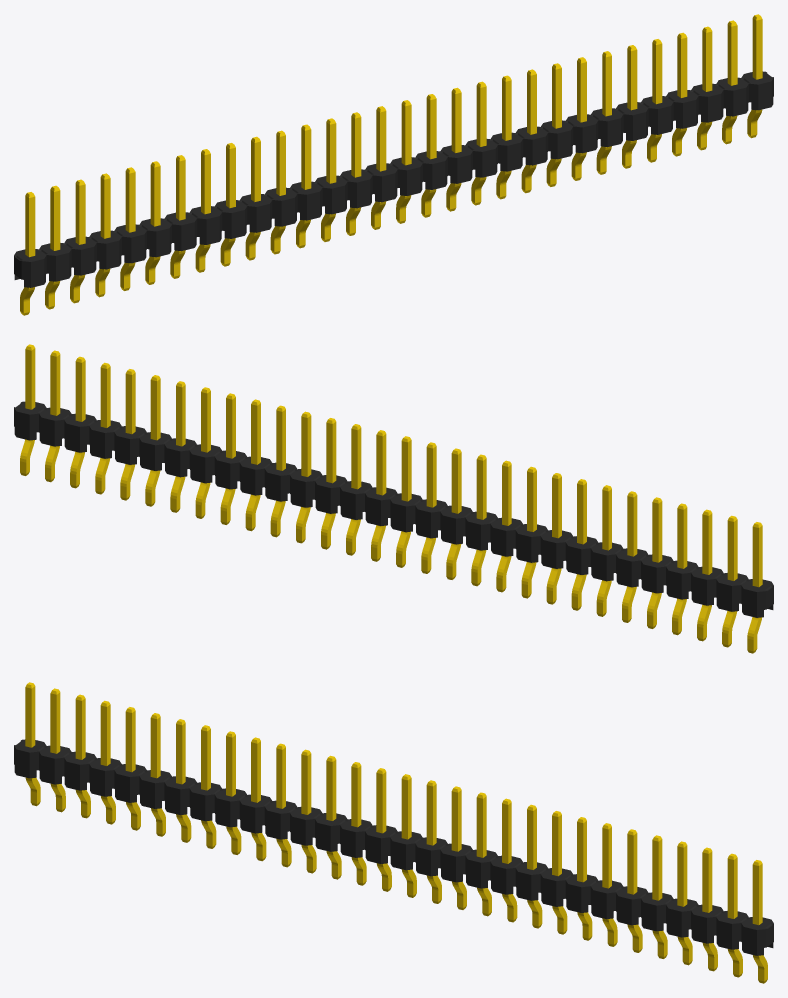
Rendered from DS1025 (PLS-30T CONNFLY).obj.
The picture shows the model from 3 angles, top to bottom: view 1: azimuth 30°, elevation 25°; view 2: azimuth 150°, elevation 25°; view 3: azimuth 330°, elevation 25°; orthographic projection.
Visible parts, largest first — view 1: DS1025_(PLS-30T_CONNFLY); view 2: DS1025_(PLS-30T_CONNFLY); view 3: DS1025_(PLS-30T_CONNFLY).
Part boxes in pixels (x1,y1,x2,y2): DS1025_(PLS-30T_CONNFLY): (14, 14, 773, 315); DS1025_(PLS-30T_CONNFLY): (14, 344, 773, 653); DS1025_(PLS-30T_CONNFLY): (14, 682, 773, 983).
Bounding box in the file's own units: 0.0268 × 0.00426 × 0.000895.
